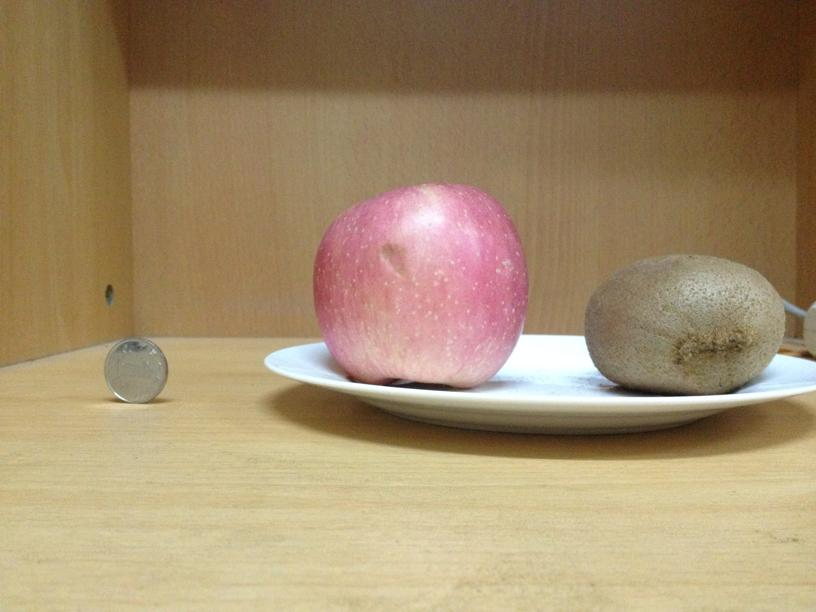apple: (313, 183, 526, 386)
coin: (105, 337, 166, 402)
qiwi: (586, 252, 785, 392)
